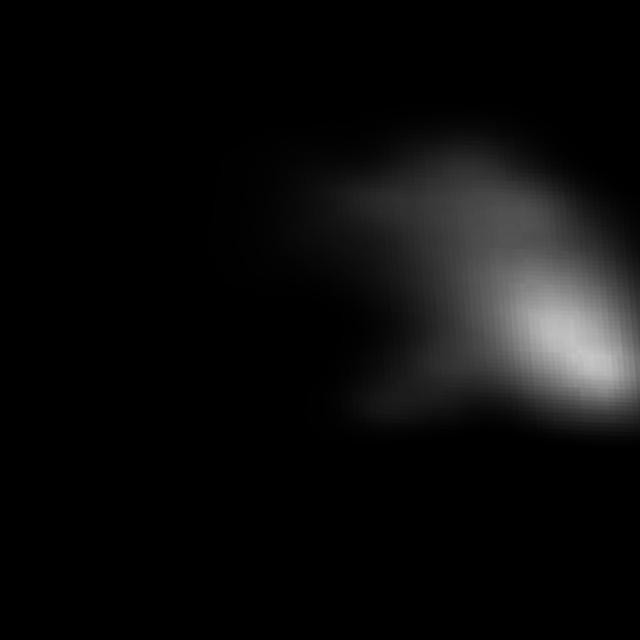person: (229, 93, 640, 478)
